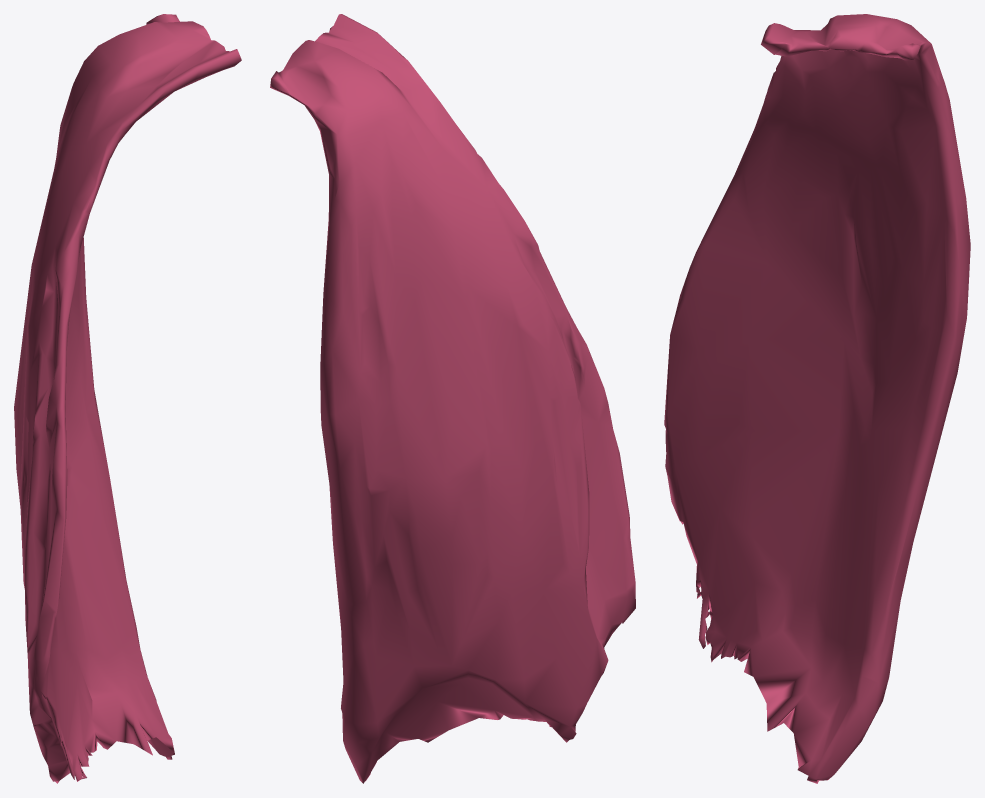
The picture shows the model from 3 angles, left to right: view 1: azimuth 30°, elevation 25°; view 2: azimuth 150°, elevation 25°; view 3: azimuth 270°, elevation 25°; orthographic projection. The views are drawn at different scales.
Parts seen in each view (by area): view 1: 右侧耻骨肛门肌; view 2: 右侧耻骨肛门肌; view 3: 右侧耻骨肛门肌.
Part boxes in pixels (x1=…): 右侧耻骨肛门肌: x1=14, y1=14, x2=241, y2=783; 右侧耻骨肛门肌: x1=270, y1=14, x2=635, y2=783; 右侧耻骨肛门肌: x1=664, y1=14, x2=970, y2=783.
Bounding box in the file's own units: 0.0448 × 0.1241 × 0.0446.
